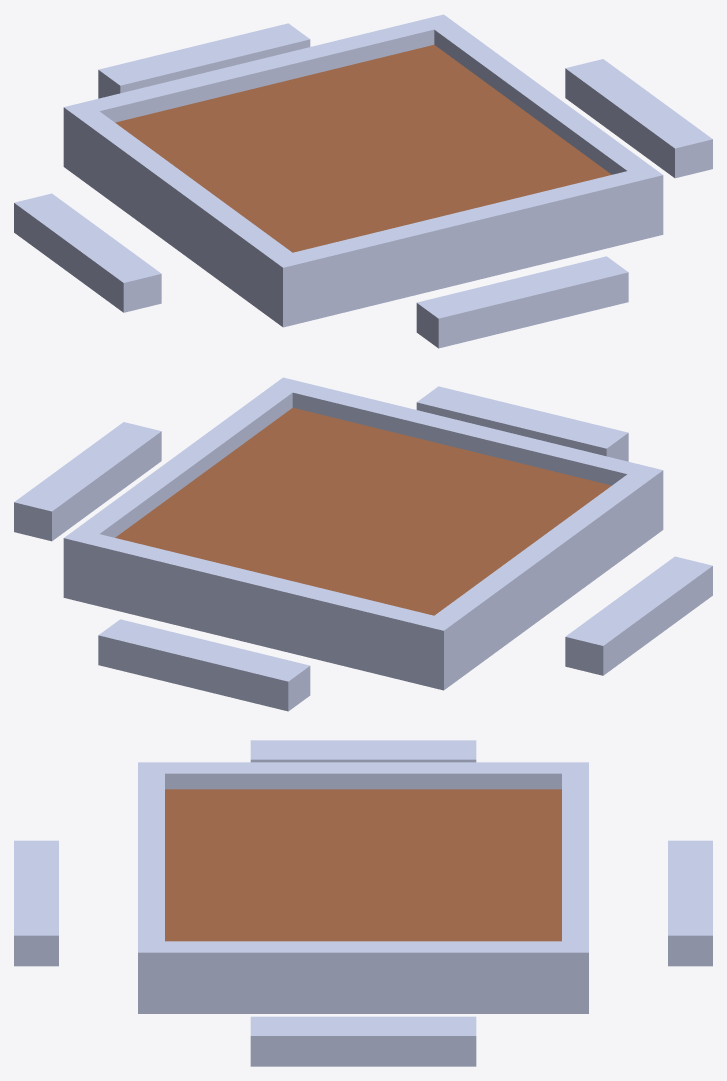
Rendered from maidstage2_kadan.fbx.
3 renders of one model, top to bottom at view 1: azimuth 30°, elevation 25°; view 2: azimuth 150°, elevation 25°; view 3: azimuth 270°, elevation 25°, orthographic. The views are drawn at different scales.
Visible parts, largest first — view 1: 立方体, 立方体.002, 立方体.003, 立方体.001; view 2: 立方体, 立方体.001, 立方体.002, 立方体.003; view 3: 立方体, 立方体.002, 立方体.001, 立方体.003.
Boxes of the visible parts, left/top/right/bottom form: 立方体: left=63, top=14, right=663, bottom=348; 立方体.002: left=565, top=59, right=712, bottom=178; 立方体.003: left=14, top=193, right=161, bottom=312; 立方体.001: left=98, top=23, right=310, bottom=98; 立方体: left=63, top=377, right=663, bottom=690; 立方体.001: left=98, top=619, right=310, bottom=711; 立方体.002: left=14, top=422, right=161, bottom=541; 立方体.003: left=565, top=556, right=712, bottom=675; 立方体: left=14, top=762, right=588, bottom=1013; 立方体.002: left=250, top=1016, right=476, bottom=1066; 立方体.001: left=668, top=840, right=712, bottom=966; 立方体.003: left=250, top=740, right=476, bottom=762.
Size of the model in its own units: 6200 by 600 by 6200.
